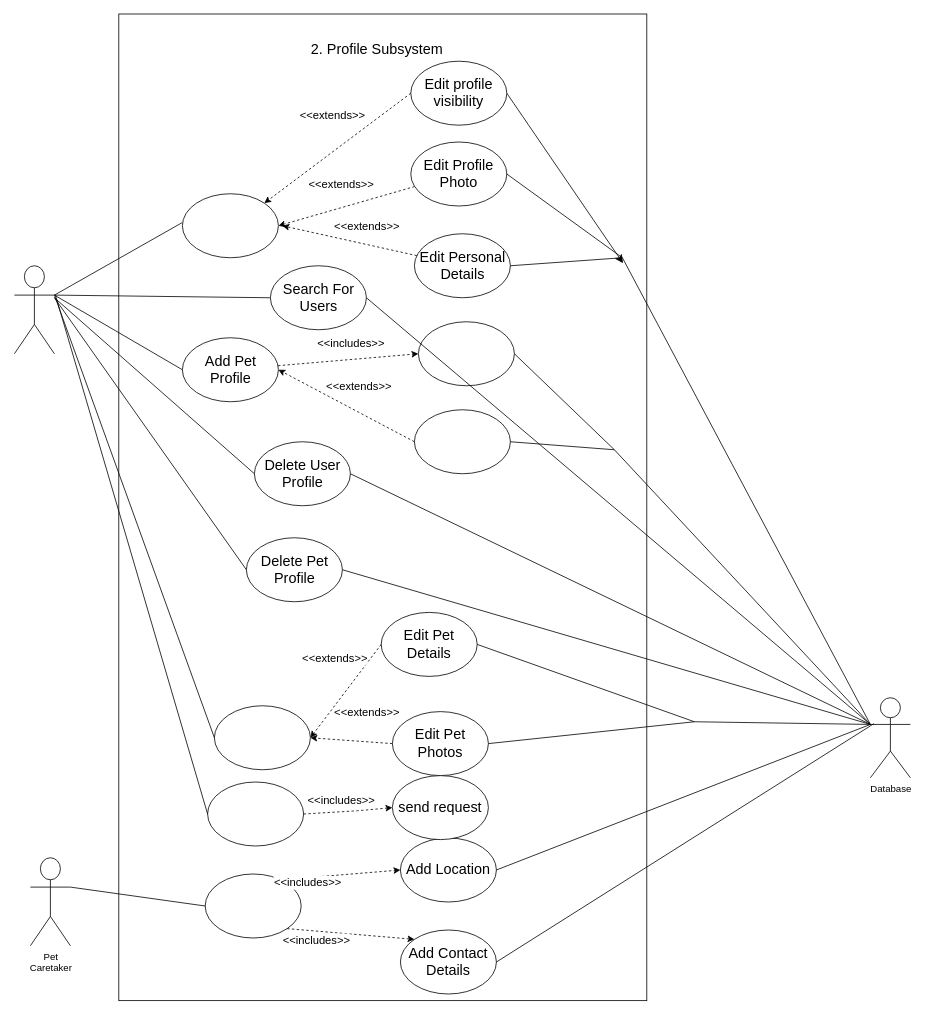
Some shapes in this 925 by 1015 pixel diagram are drawn without their labels. The shapes that lost their labels are listed below. From the top down, each one's box as (x1, y1, x2, y2) in pixels, then its label:
(182, 193, 278, 258): Edit User Profile
(14, 265, 54, 354): User
(418, 321, 514, 386): Add Pet Details
(414, 409, 510, 474): Upload Pet Photos
(214, 705, 310, 770): Edit Pet Profile
(207, 781, 304, 846): Follow user
(204, 873, 301, 938): Register Caretaker
